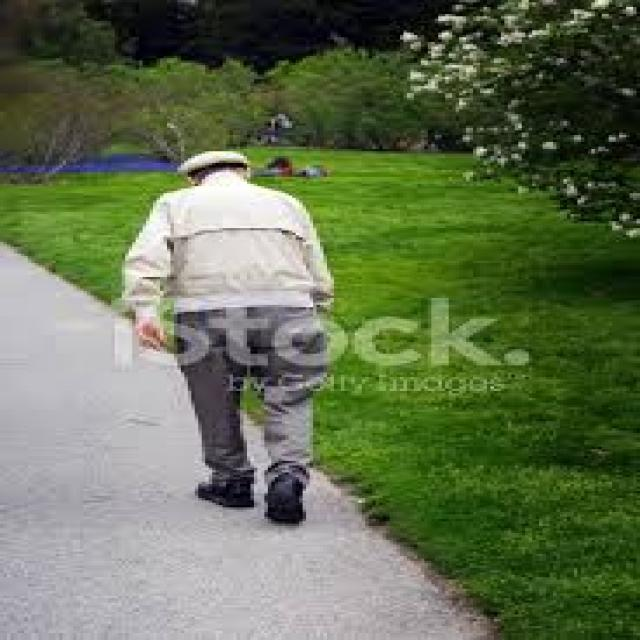idoso em pe: (115, 145, 356, 530)
